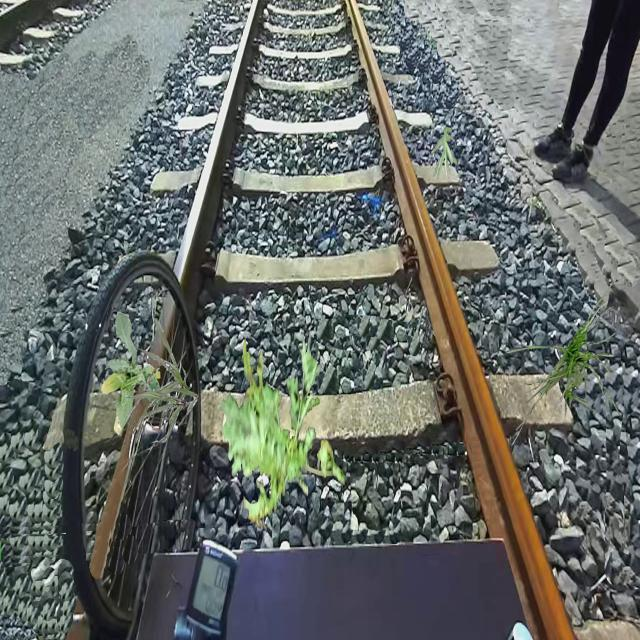Plant: (220, 335, 345, 531), (504, 283, 622, 447), (126, 318, 199, 442), (101, 311, 164, 436), (431, 126, 458, 182)
